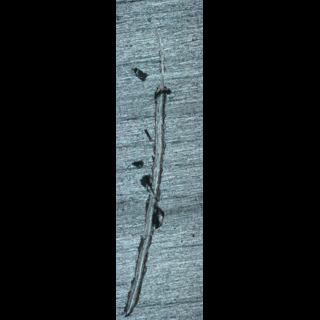d: (121, 8, 173, 318)
